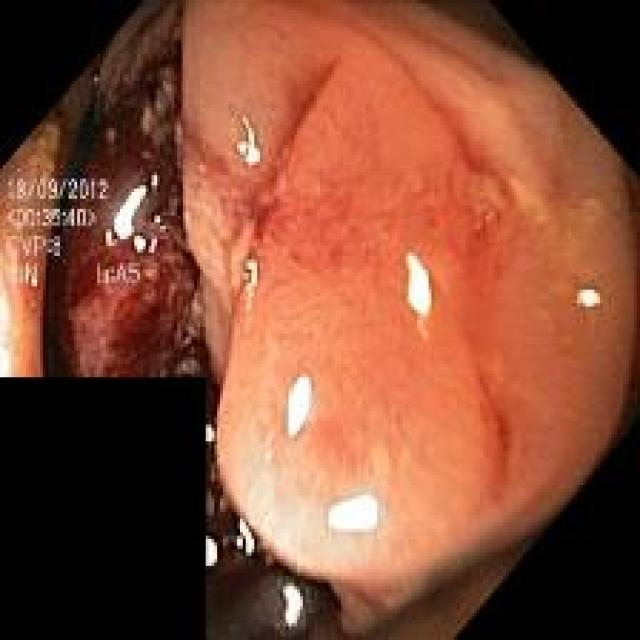Polyps: (0, 4, 640, 637), (182, 3, 640, 636)
